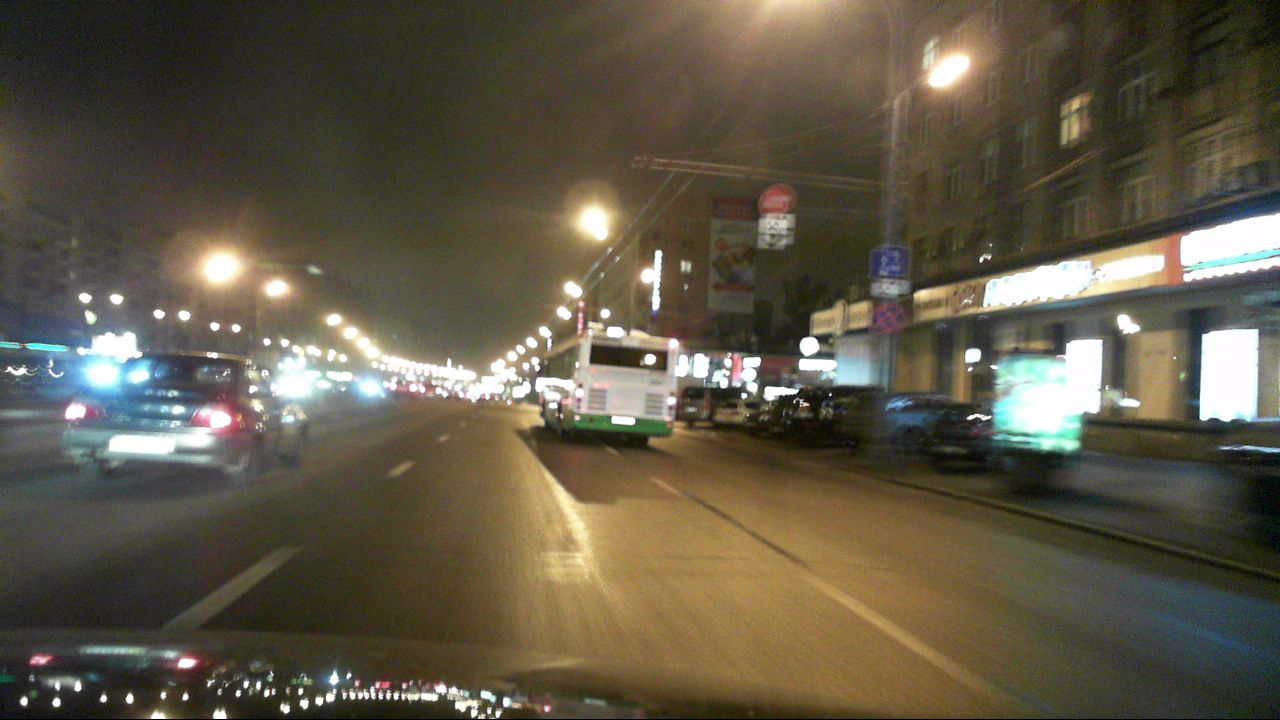No Parking: (872, 302, 902, 331)
